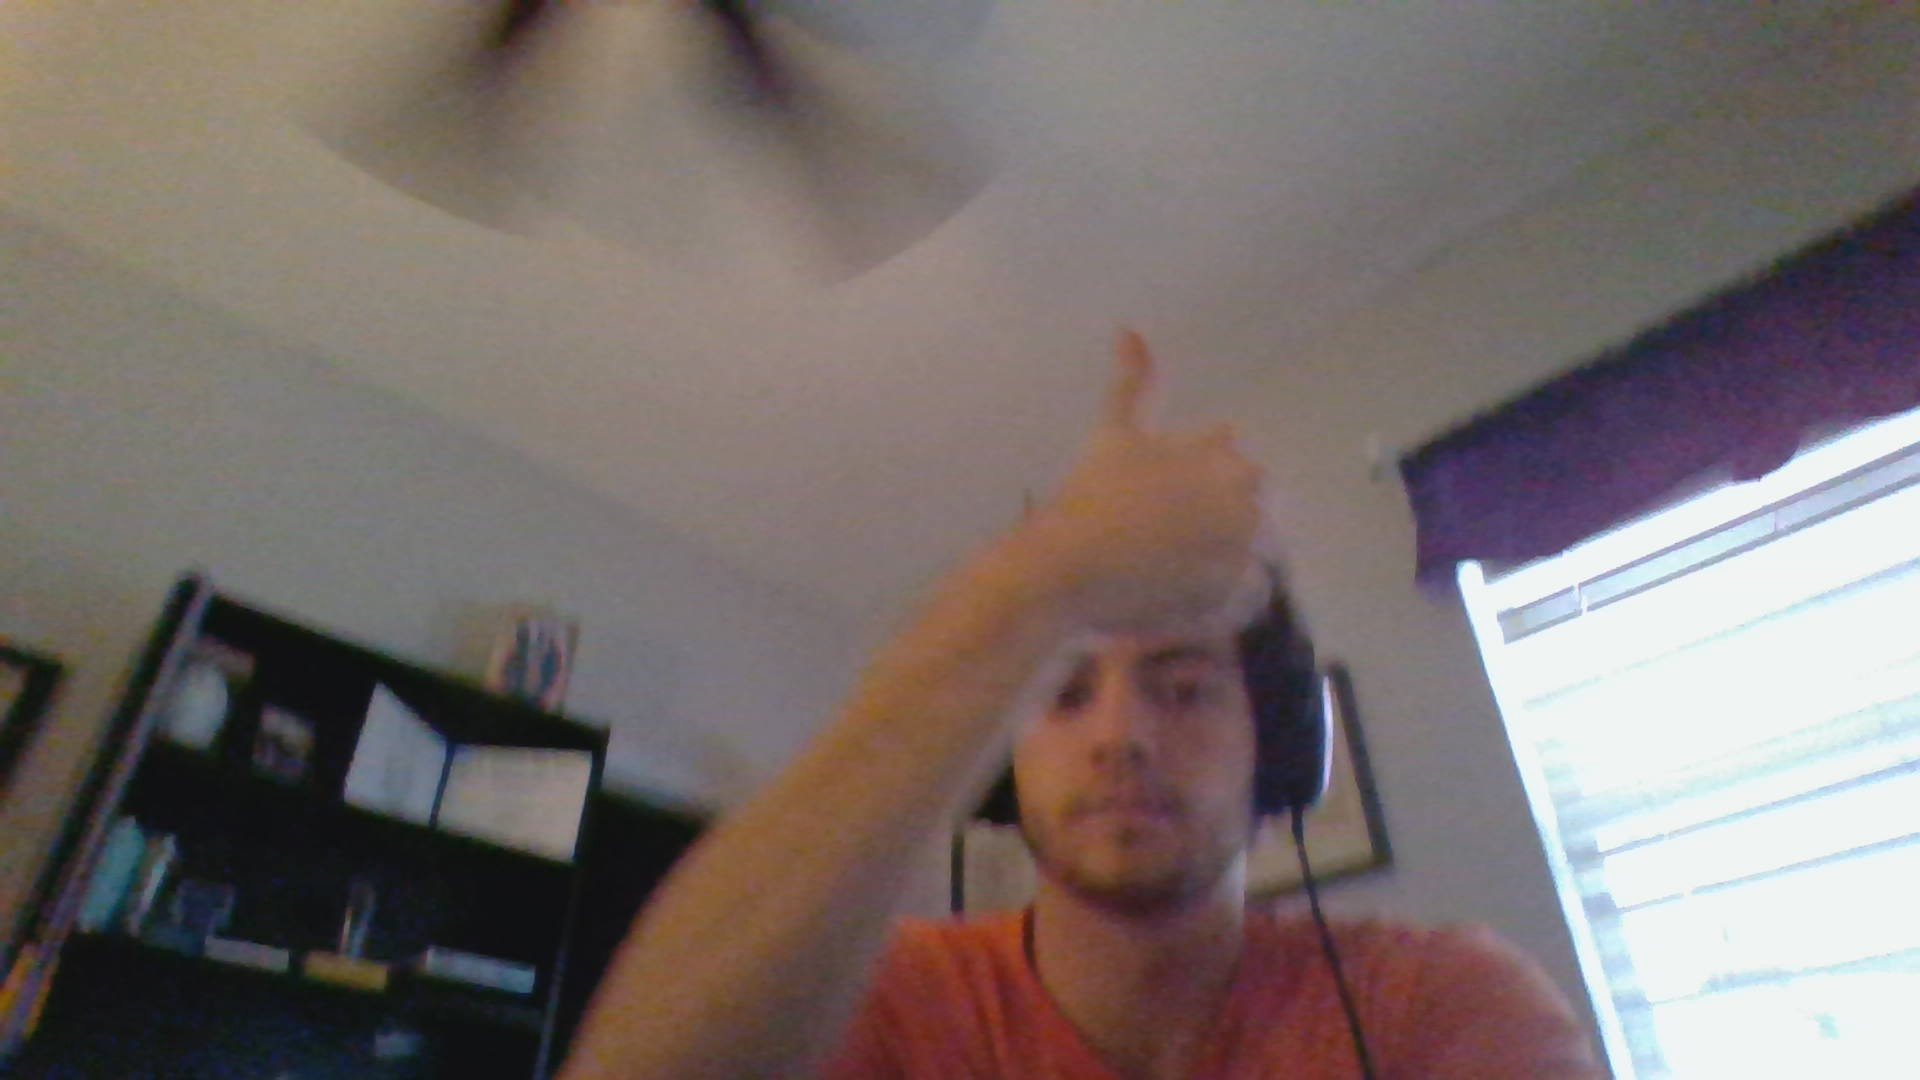Right Thumb Up: (1038, 295, 1278, 657)
